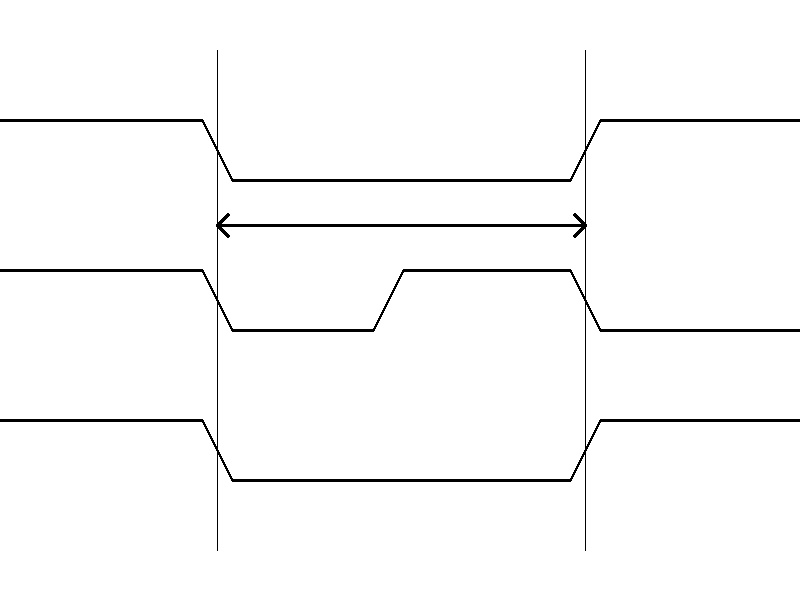double_arrow: (217, 210, 585, 240)
